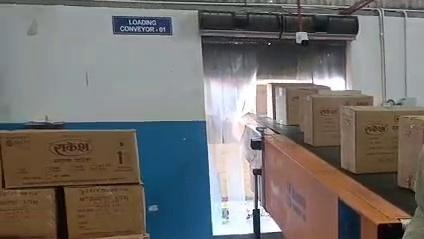box: (340, 105, 424, 173), (299, 93, 373, 146), (268, 83, 329, 125)
